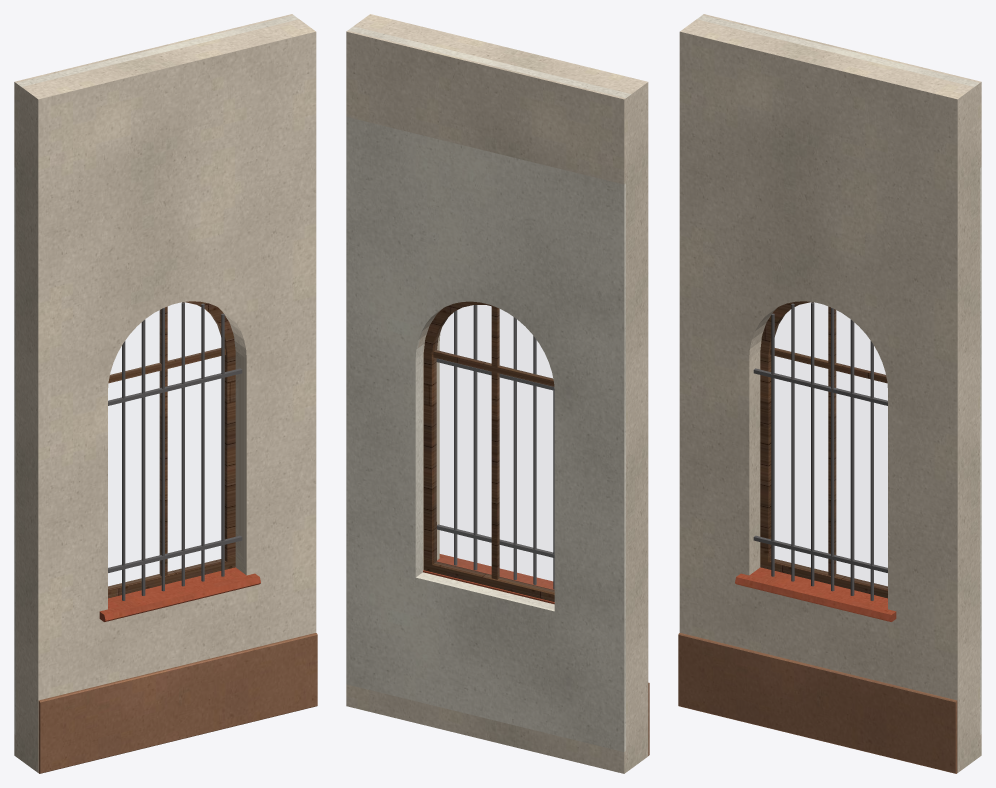
Rendered from m_wall_window_reja.glb.
The picture shows the model from 3 angles, left to right: view 1: azimuth 30°, elevation 25°; view 2: azimuth 150°, elevation 25°; view 3: azimuth 330°, elevation 25°; orthographic projection.
Visible parts, largest first — view 1: m_wall_window_reja_render, m_wall_window_reja_plinth, folha_glass, m_wall_window_reja_iron, folha_wood, m_wall_window_reja_tile_clay, m_wall_window_reja_plaster; view 2: m_wall_window_reja_plaster, m_wall_window_reja_render, folha_glass, folha_wood, m_wall_window_reja_iron, m_wall_window_reja_tile_clay; view 3: m_wall_window_reja_render, m_wall_window_reja_plinth, folha_glass, m_wall_window_reja_iron, folha_wood, m_wall_window_reja_tile_clay, m_wall_window_reja_plaster.
Part boxes in pixels (x1,y1,x2,y2): m_wall_window_reja_render: (14,14,316,772); m_wall_window_reja_plinth: (38,633,317,773); folha_glass: (108,303,220,588); m_wall_window_reja_iron: (108,302,242,600); folha_wood: (108,301,235,598); m_wall_window_reja_tile_clay: (99,567,260,621); m_wall_window_reja_plaster: (14,15,298,734); m_wall_window_reja_plaster: (346,26,630,751); m_wall_window_reja_render: (346,14,648,773); folha_glass: (435,305,553,591); folha_wood: (423,301,554,601); m_wall_window_reja_iron: (436,305,554,589); m_wall_window_reja_tile_clay: (423,554,554,604); m_wall_window_reja_render: (679,14,981,772); m_wall_window_reja_plinth: (678,633,957,773); folha_glass: (775,303,887,588); m_wall_window_reja_iron: (753,302,887,600); folha_wood: (760,301,887,598); m_wall_window_reja_tile_clay: (735,567,896,621); m_wall_window_reja_plaster: (697,15,981,734).
Size of the model in its own units: 2 by 4.64 by 0.375.
Materials: 7 (5 with a texture image).
